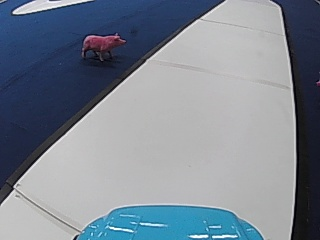pig: (79, 30, 127, 61)
